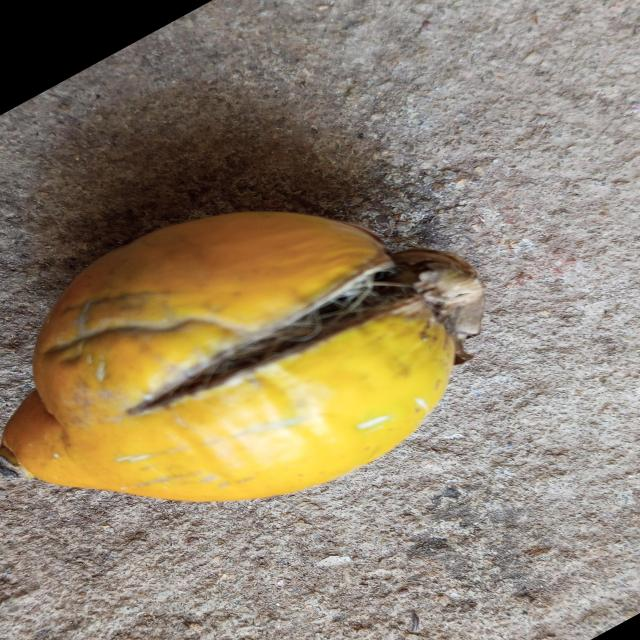damaged: (0, 212, 484, 501)
